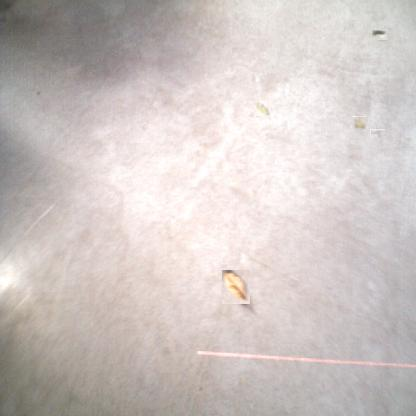dirty: (223, 271, 250, 304), (255, 101, 270, 117), (352, 116, 366, 129), (372, 30, 388, 40)
mark: (373, 126, 382, 137), (136, 50, 142, 62), (35, 90, 42, 98), (196, 386, 203, 393), (249, 112, 255, 119)
